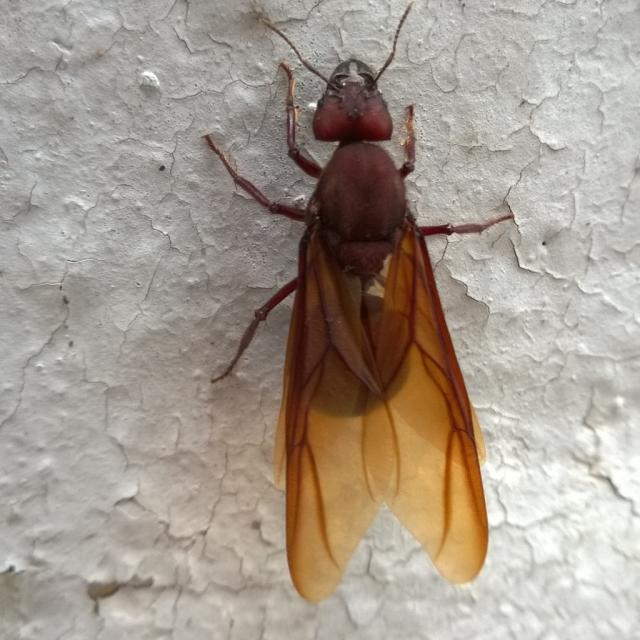Alive-Female-Alate: (200, 1, 516, 606)
